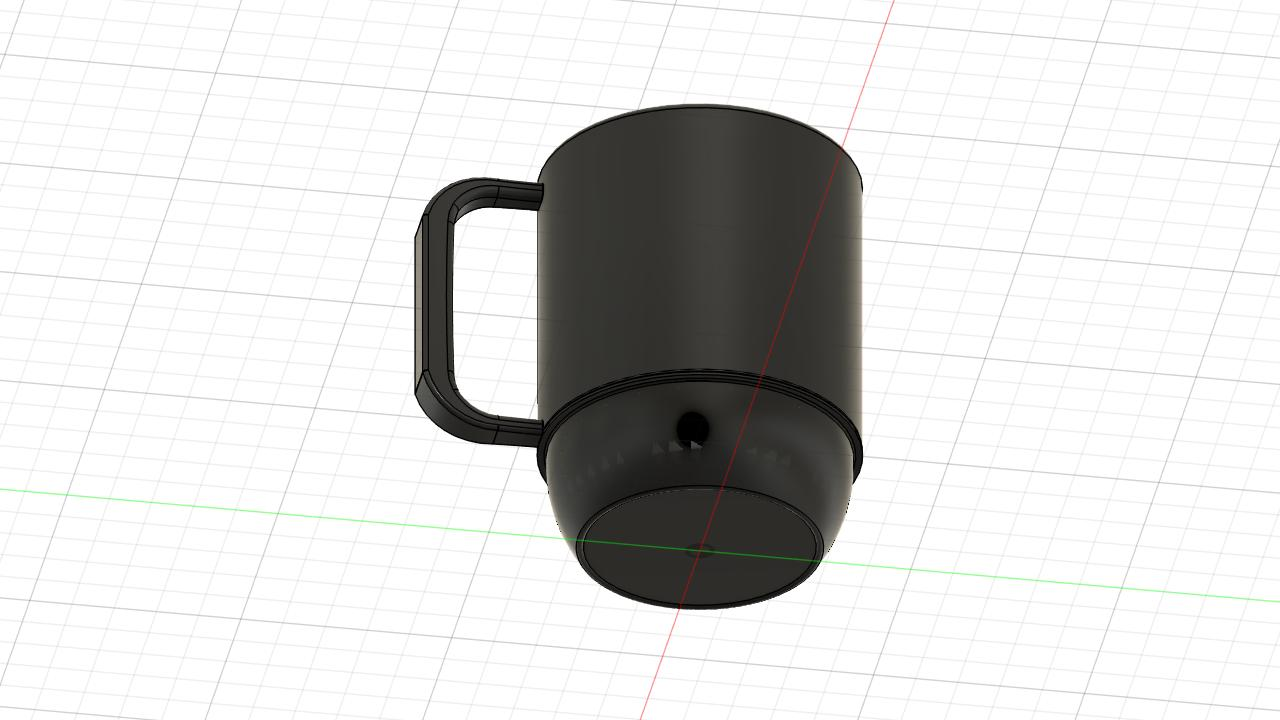mug-real100-3d100: (414, 105, 863, 608)
